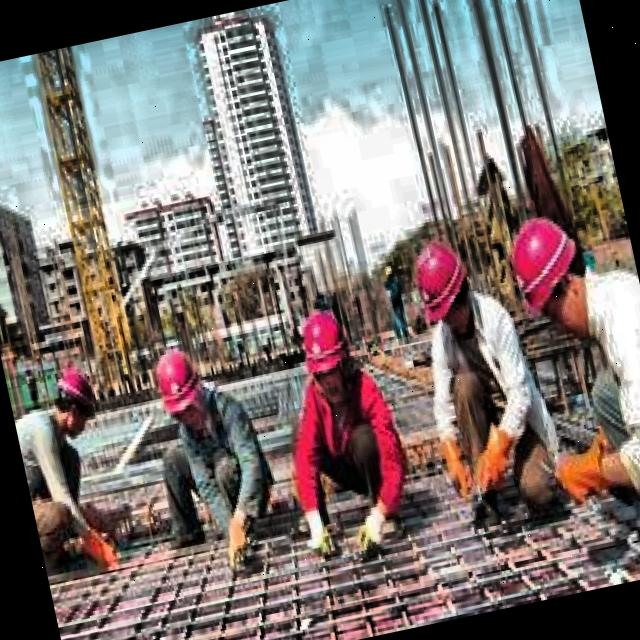helmet: (498, 208, 596, 348), (402, 230, 482, 346), (291, 302, 366, 410), (146, 338, 210, 438), (39, 358, 109, 442)
